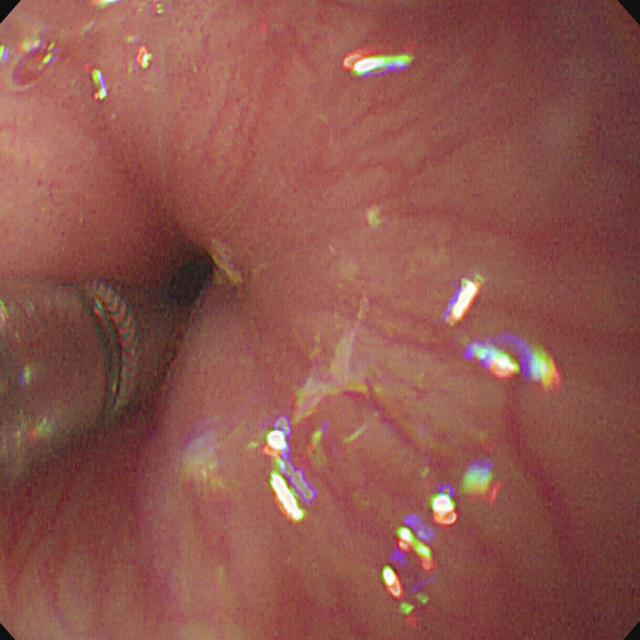E: (167, 249, 220, 315)
K: (2, 273, 152, 483)
T: (5, 35, 64, 95)
U: (263, 417, 313, 527), (472, 343, 562, 395), (398, 496, 460, 571), (382, 567, 430, 628), (342, 52, 416, 79), (462, 464, 505, 508), (449, 275, 483, 329), (85, 66, 112, 106), (135, 45, 154, 72)
